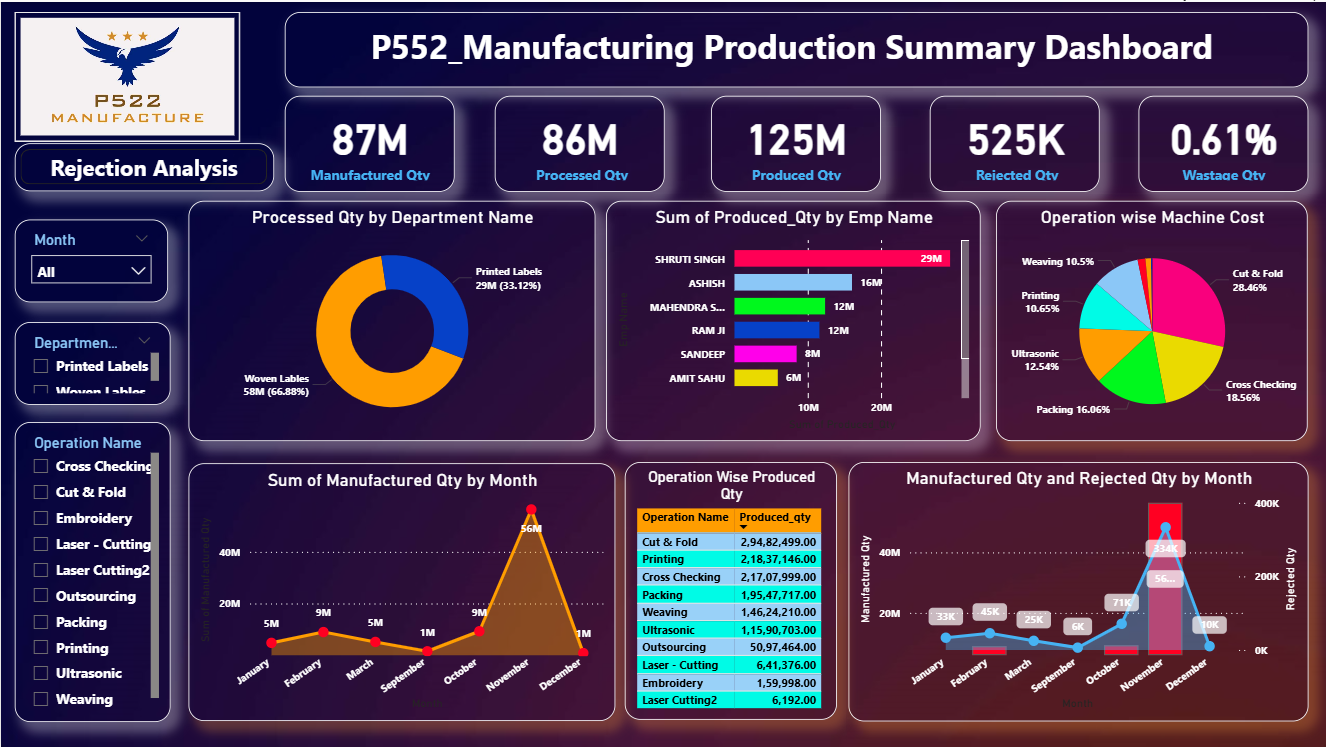

This screenshot's page, from the dashboard's own definition file:
{"tool":"powerbi","page":{"name":"Summary Dashboard","canvas":[1280,720],"ordinal":0},"visuals":[{"type":"donutChart","fields":{"Category":["manufacturinganalysis manufacturingdata.Department Name"],"Y":["Sum(manufacturinganalysis manufacturingdata.Processed Qty)"]},"box":[181,191.7,392.9,232.1],"z":0},{"type":"barChart","fields":{"Category":["Query2.Emp Name"],"Y":["Sum(Query2.Produced_Qty)"]},"box":[583.3,191.7,361.9,232.1],"z":1000},{"type":"card","fields":{"Values":["Min(Query1.wastage)"]},"box":[1097.6,90.5,164.3,92.9],"z":2000},{"type":"card","fields":{"Values":["Sum(manufacturinganalysis manufacturingdata.Manufactured Qty)"]},"box":[273.8,90.5,164.3,92.9],"z":3000},{"type":"card","fields":{"Values":["Sum(manufacturinganalysis manufacturingdata.Processed Qty)"]},"box":[476.2,90.5,164.3,92.9],"z":4000},{"type":"card","fields":{"Values":["Sum(manufacturinganalysis manufacturingdata.Produced Qty)"]},"box":[685.7,90.5,164.3,92.9],"z":5000},{"type":"card","fields":{"Values":["Sum(manufacturinganalysis manufacturingdata.Rejected Qty)"]},"box":[896.4,90.5,164.3,92.9],"z":6000},{"type":"pieChart","title":"Operation wise Machine Cost ","fields":{"Category":["manufacturinganalysis manufacturingdata.Operation Name"],"Y":["Sum(manufacturinganalysis manufacturingdata.Per day Machine Cost made)"]},"box":[960.7,191.7,301.2,232.1],"z":7000},{"type":"areaChart","fields":{"Category":["manufacturinganalysis manufacturingdata.Doc Date.Variation.Date Hierarchy.Month"],"Y":["Sum(manufacturinganalysis manufacturingdata.Manufactured Qty)"]},"box":[181,445.2,411.4,264.2],"z":8000},{"type":"lineStackedColumnComboChart","fields":{"Category":["manufacturinganalysis manufacturingdata.Doc Date.Variation.Date Hierarchy.Month"],"Y":["Sum(manufacturinganalysis manufacturingdata.Manufactured Qty)"],"Y2":["Sum(manufacturinganalysis manufacturingdata.Rejected Qty)"]},"box":[818,444,444,170.1],"z":9000},{"type":"slicer","fields":{"Values":["manufacturinganalysis manufacturingdata.Doc Date.Variation.Date Hierarchy.Month"]},"box":[13.1,209.5,147.6,79.8],"z":10000},{"type":"slicer","fields":{"Values":["manufacturinganalysis manufacturingdata.Department Name"]},"box":[13.1,308.3,150,79.8],"z":11000},{"type":"slicer","fields":{"Values":["manufacturinganalysis manufacturingdata.Operation Name"]},"box":[13.3,405.4,149.6,304],"z":12000},{"type":"textbox","box":[273.8,9.5,988.1,72.6],"z":13000},{"type":"tableEx","title":"Operation Wise Produced Qty","fields":{"Values":["Query5.Operation Name","Query5.Produced_qty"]},"box":[602,444,205.1,265.4],"z":14000},{"type":"pageNavigator","box":[13.1,136.9,250,46.4],"z":15000},{"type":"image","box":[13.1,9.5,217.9,125],"z":16000},{"type":"textbox","box":[818,623.7,444,96.5],"z":16500}]}

Visuals, with their boxes in screenshot pixels (x1, y1, x2, y2), scaled from the page's 1280x720 canvas onto the 1326x747 screenshot:
donutChart - manufacturinganalysis manufacturingdata.Department Name x Sum(manufacturinganalysis manufacturingdata.Processed Qty): (188,199,595,440)
barChart - Query2.Emp Name x Sum(Query2.Produced_Qty): (604,199,979,440)
card - Min(Query1.wastage): (1137,94,1307,190)
card - Sum(manufacturinganalysis manufacturingdata.Manufactured Qty): (284,94,454,190)
card - Sum(manufacturinganalysis manufacturingdata.Processed Qty): (493,94,664,190)
card - Sum(manufacturinganalysis manufacturingdata.Produced Qty): (710,94,881,190)
card - Sum(manufacturinganalysis manufacturingdata.Rejected Qty): (929,94,1099,190)
"Operation wise Machine Cost " pieChart: (995,199,1307,440)
areaChart - manufacturinganalysis manufacturingdata.Doc Date.Variation.Date Hierarchy.Month x Sum(manufacturinganalysis manufacturingdata.Manufactured Qty): (188,462,614,736)
lineStackedColumnComboChart - manufacturinganalysis manufacturingdata.Doc Date.Variation.Date Hierarchy.Month x Sum(manufacturinganalysis manufacturingdata.Manufactured Qty): (847,461,1307,637)
slicer - manufacturinganalysis manufacturingdata.Doc Date.Variation.Date Hierarchy.Month: (14,217,166,300)
slicer - manufacturinganalysis manufacturingdata.Department Name: (14,320,169,403)
slicer - manufacturinganalysis manufacturingdata.Operation Name: (14,421,169,736)
textbox: (284,10,1307,85)
"Operation Wise Produced Qty" tableEx: (624,461,836,736)
pageNavigator: (14,142,273,190)
image: (14,10,239,140)
textbox: (847,647,1307,746)
